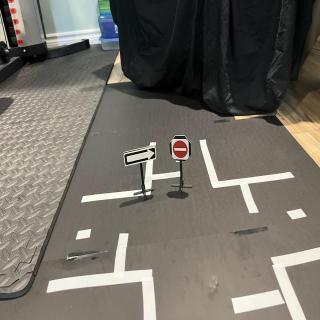sign_noentry: (172, 138, 190, 164)
sign_oneway_right: (124, 144, 159, 169)
